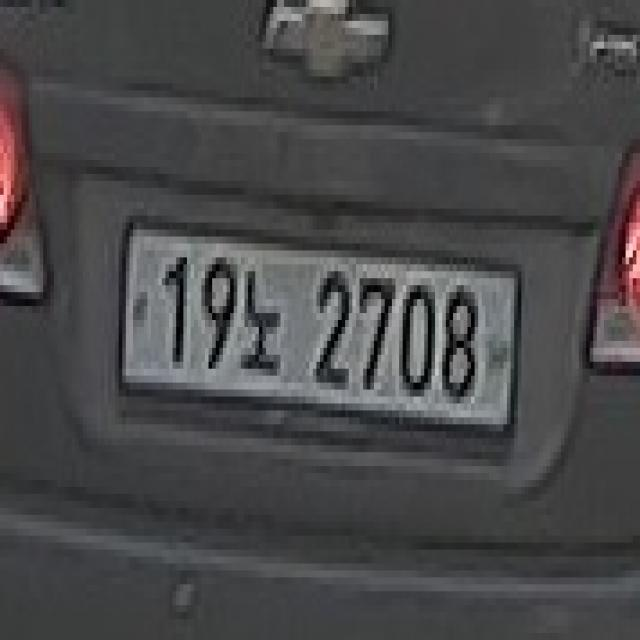0: (396, 264, 438, 404)
1: (158, 236, 191, 382)
2: (309, 258, 356, 397)
7: (356, 272, 395, 404)
8: (438, 278, 482, 404)
9: (198, 250, 237, 382)
license_plate: (111, 209, 528, 452)
no: (237, 264, 284, 383)
